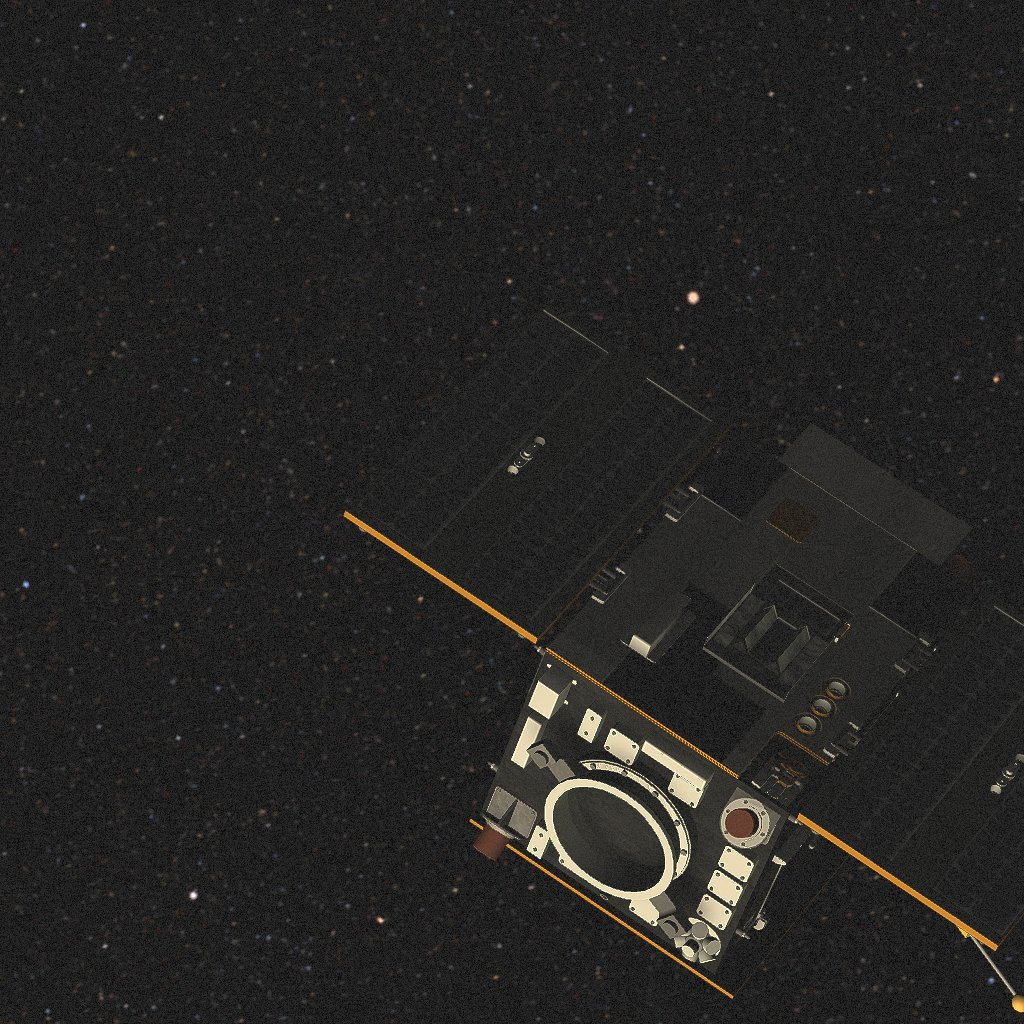proba_2: (324, 305, 1000, 1002)
